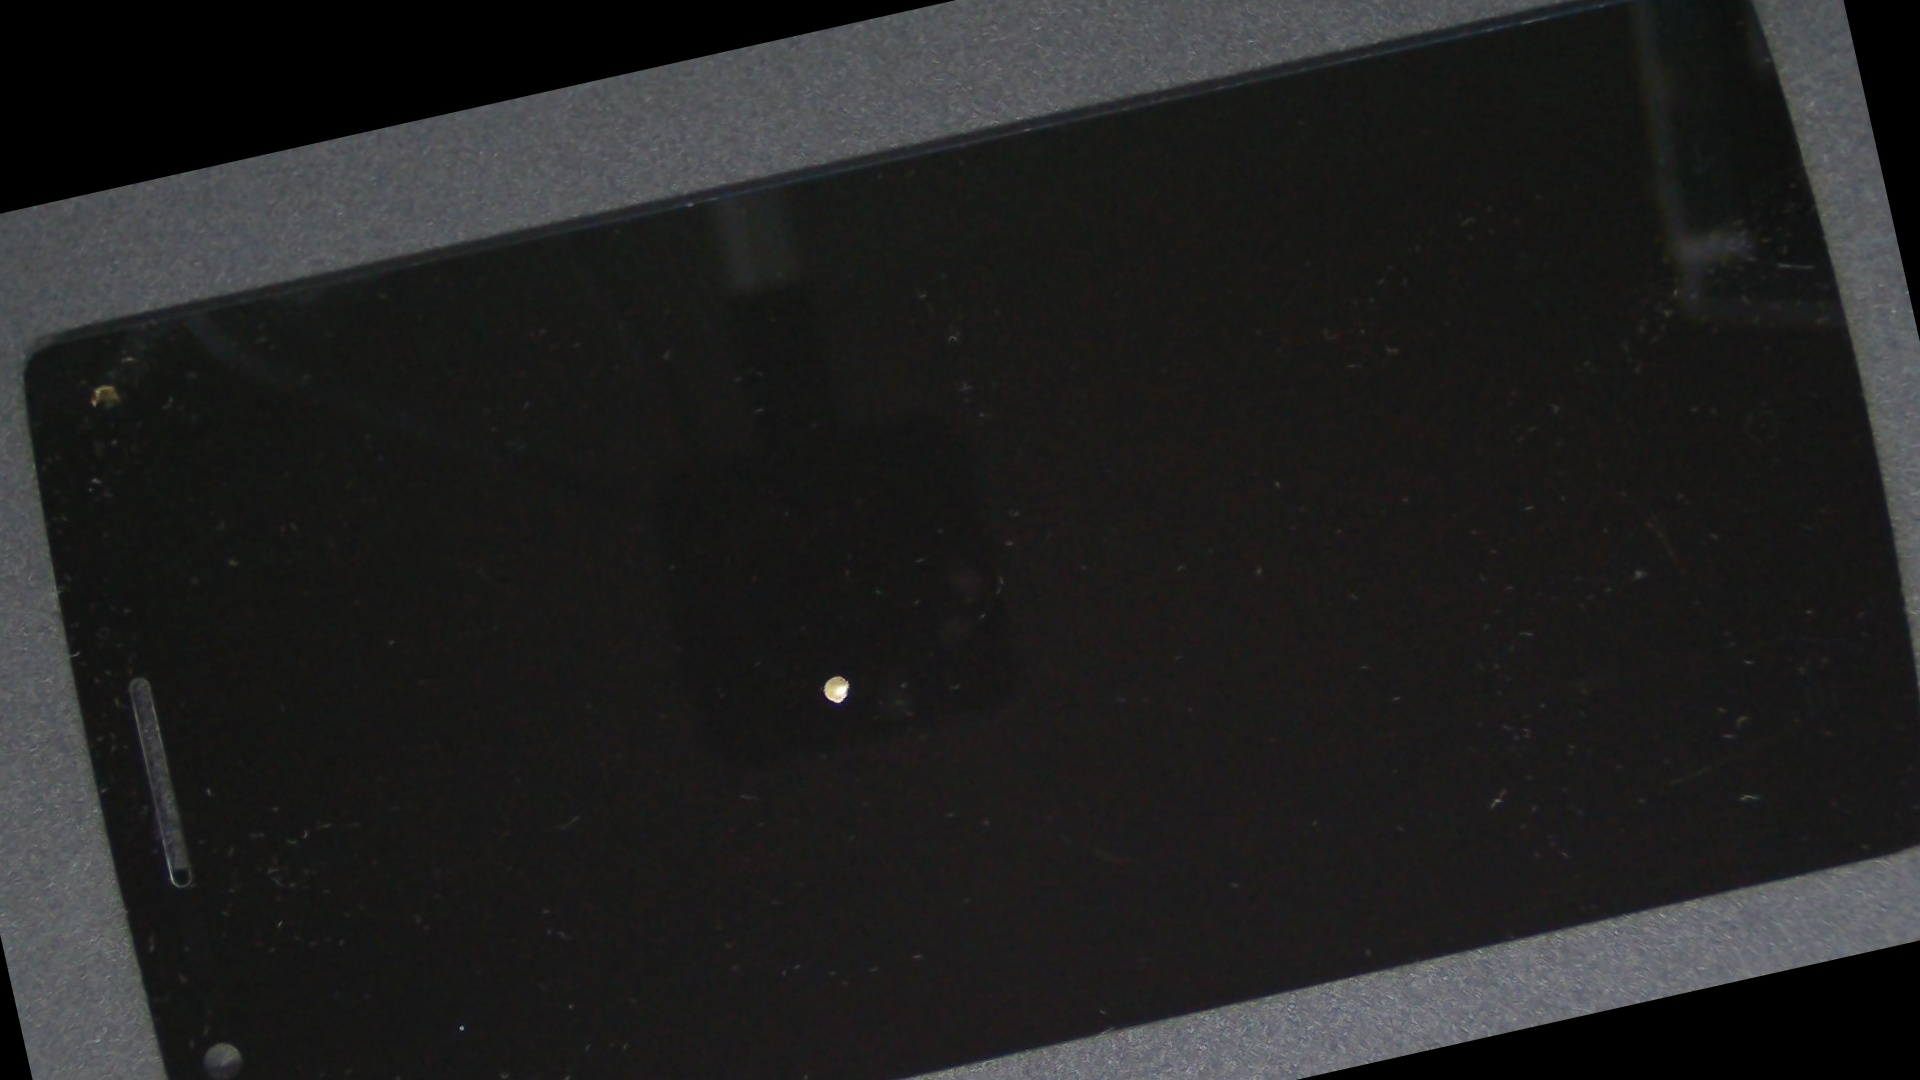oil: (339, 273, 1320, 1080)
